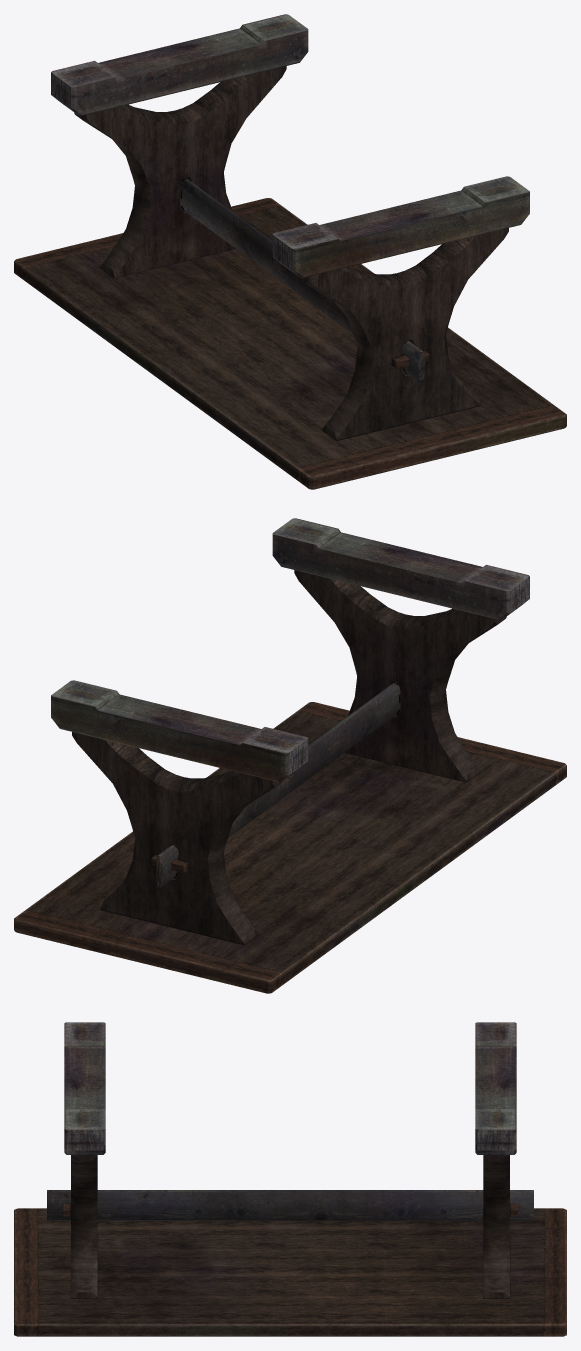
File: wooden_table.glb
3 views of the same model, one above another, from view 1: azimuth 30°, elevation 25°; view 2: azimuth 150°, elevation 25°; view 3: azimuth 270°, elevation 25° (orthographic). The views are drawn at different scales.
Parts seen in each view (by area): view 1: Desk_LP_01 - Default_0; view 2: Desk_LP_01 - Default_0; view 3: Desk_LP_01 - Default_0.
Boxes of the visible parts, bbox=[...] form: Desk_LP_01 - Default_0: bbox=[14, 14, 566, 489]; Desk_LP_01 - Default_0: bbox=[14, 518, 566, 993]; Desk_LP_01 - Default_0: bbox=[14, 1022, 566, 1336].
Bounding box in the file's own units: 100 × 80.98 × 200.
1 material, 1 textured.
